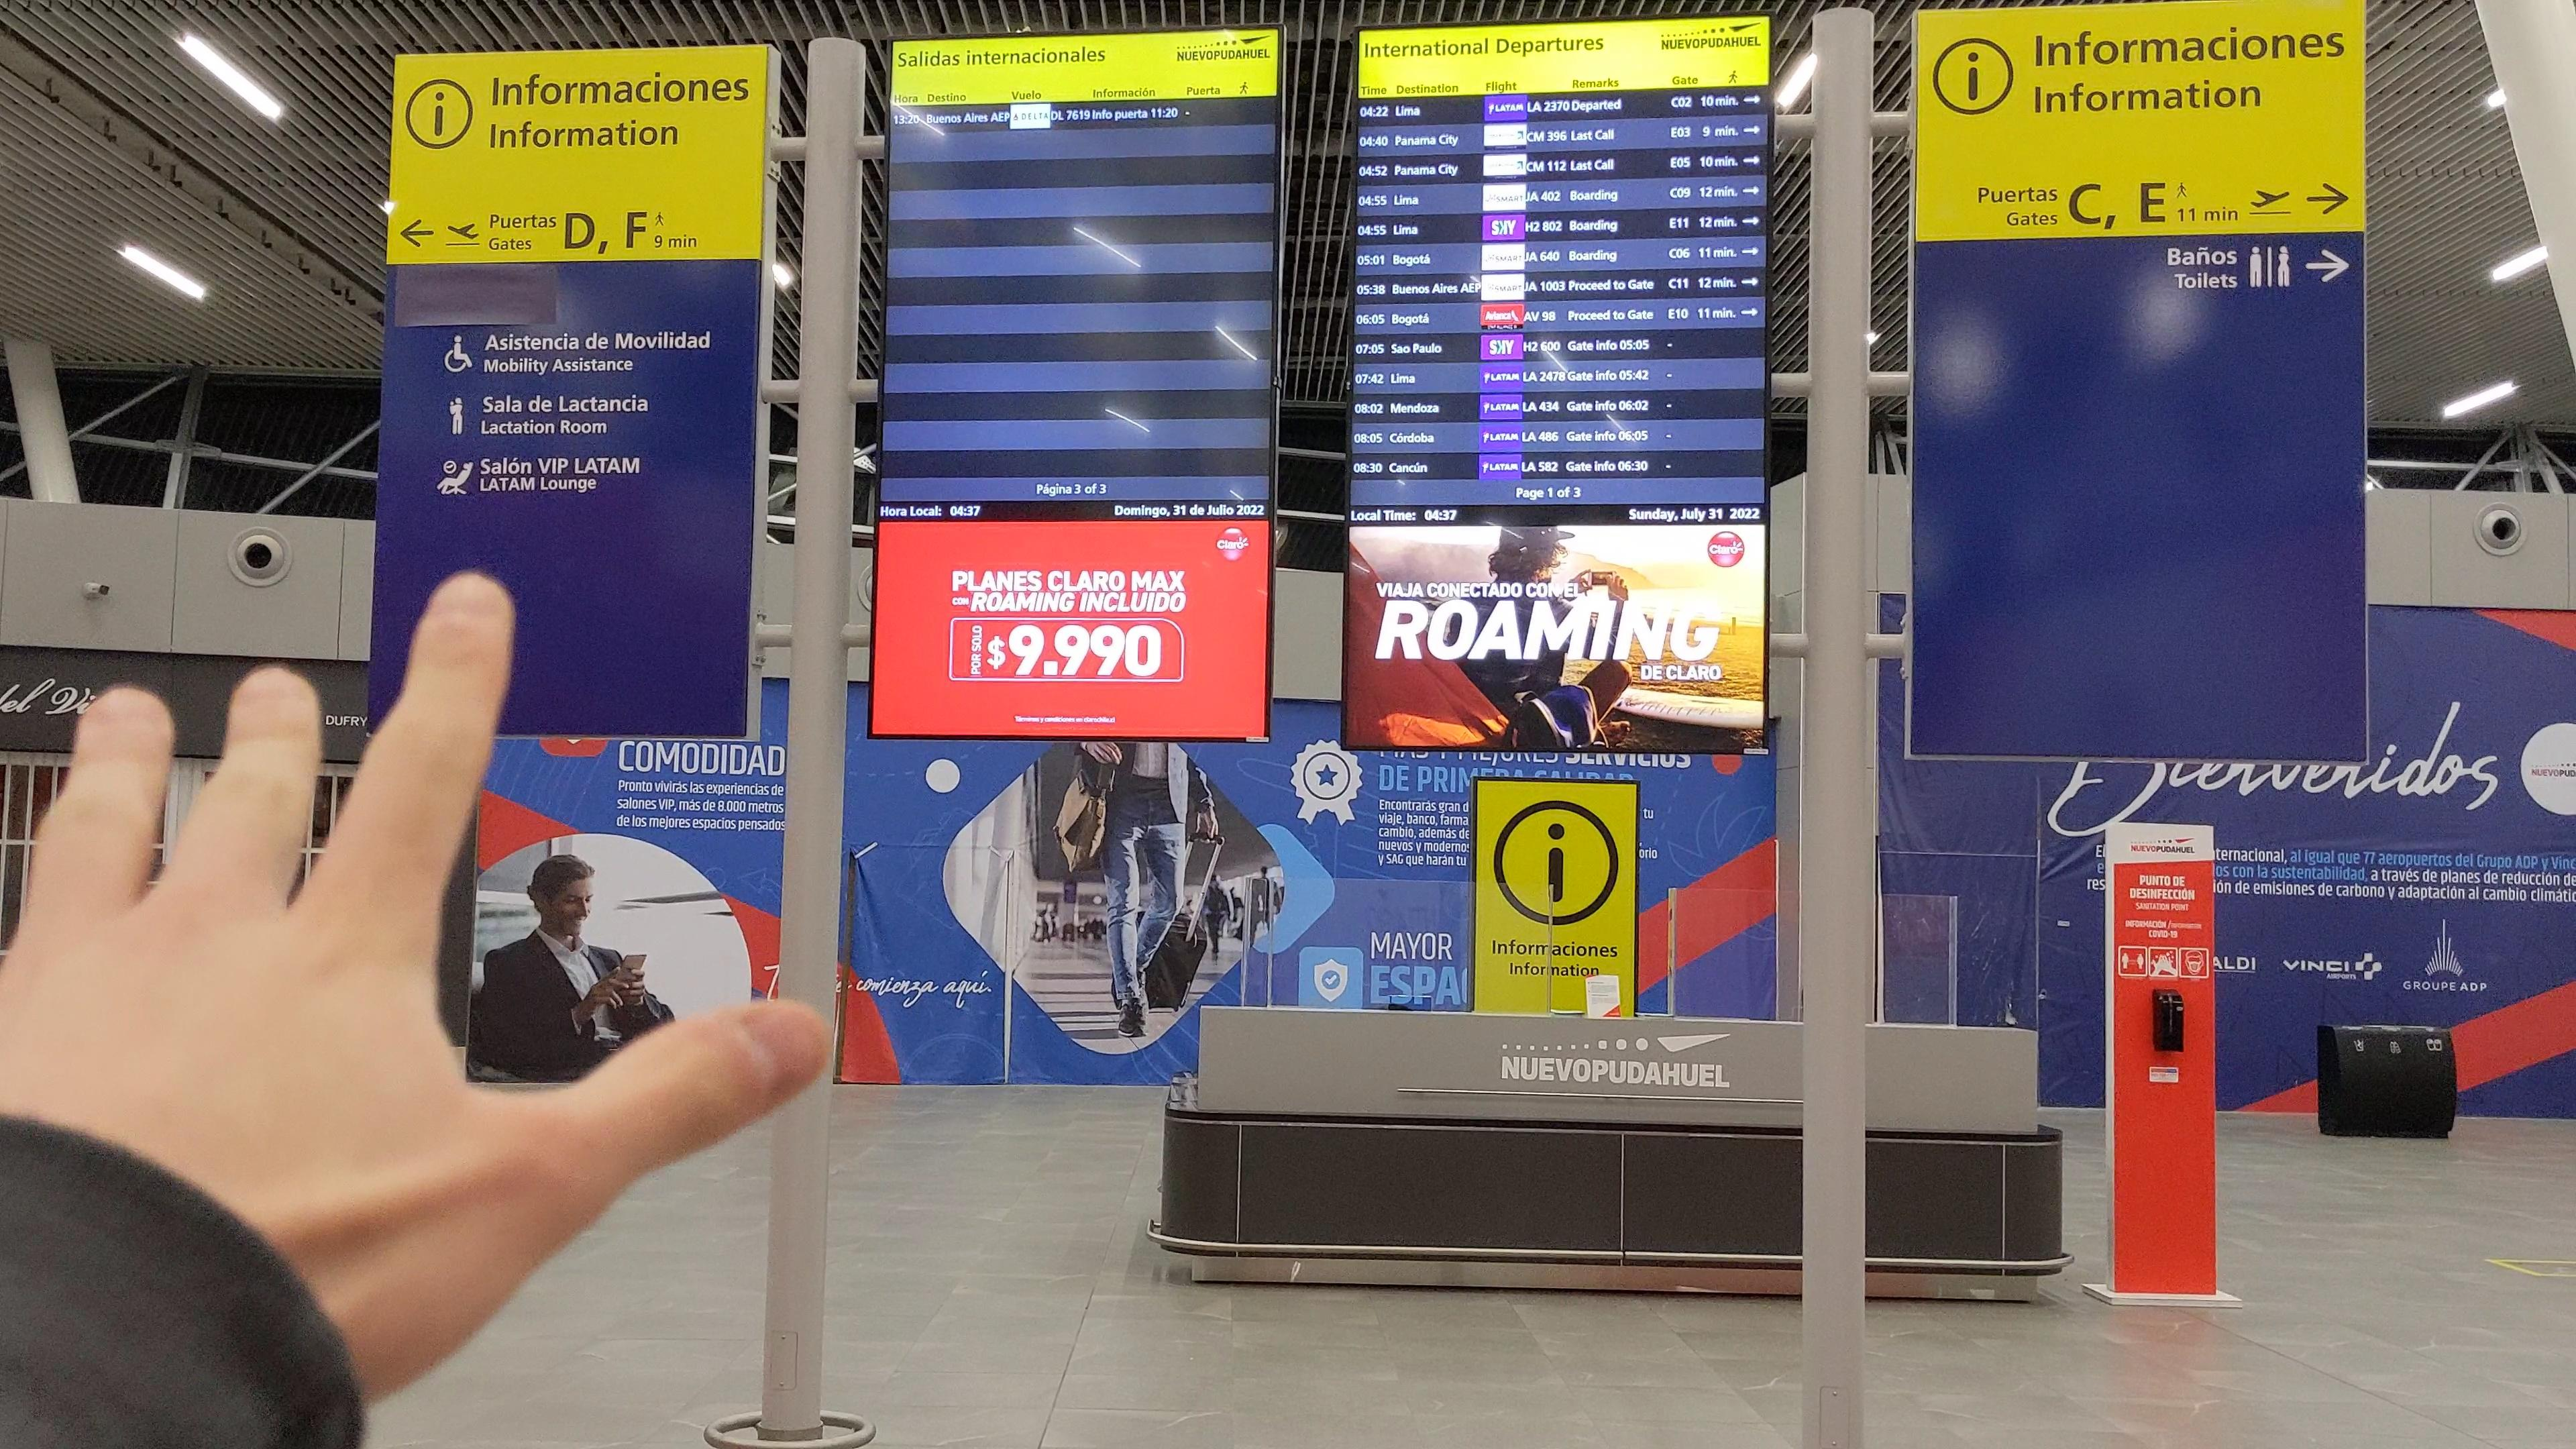airplane symbol: (2249, 188, 2293, 211), (446, 221, 481, 241)
bathrooms: (2247, 244, 2295, 290)
handicapped symbol: (442, 333, 474, 373)
left arrow: (398, 218, 437, 249)
right arrow: (2304, 248, 2350, 285), (2304, 182, 2351, 216)
